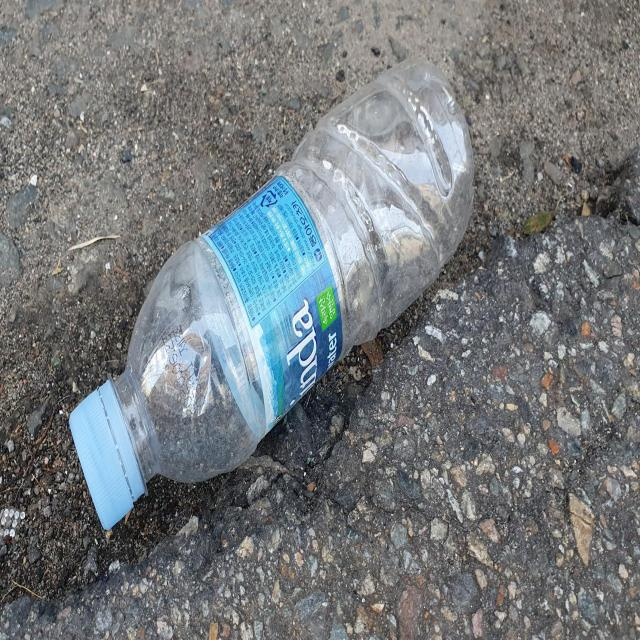plastic: (69, 59, 474, 529)
